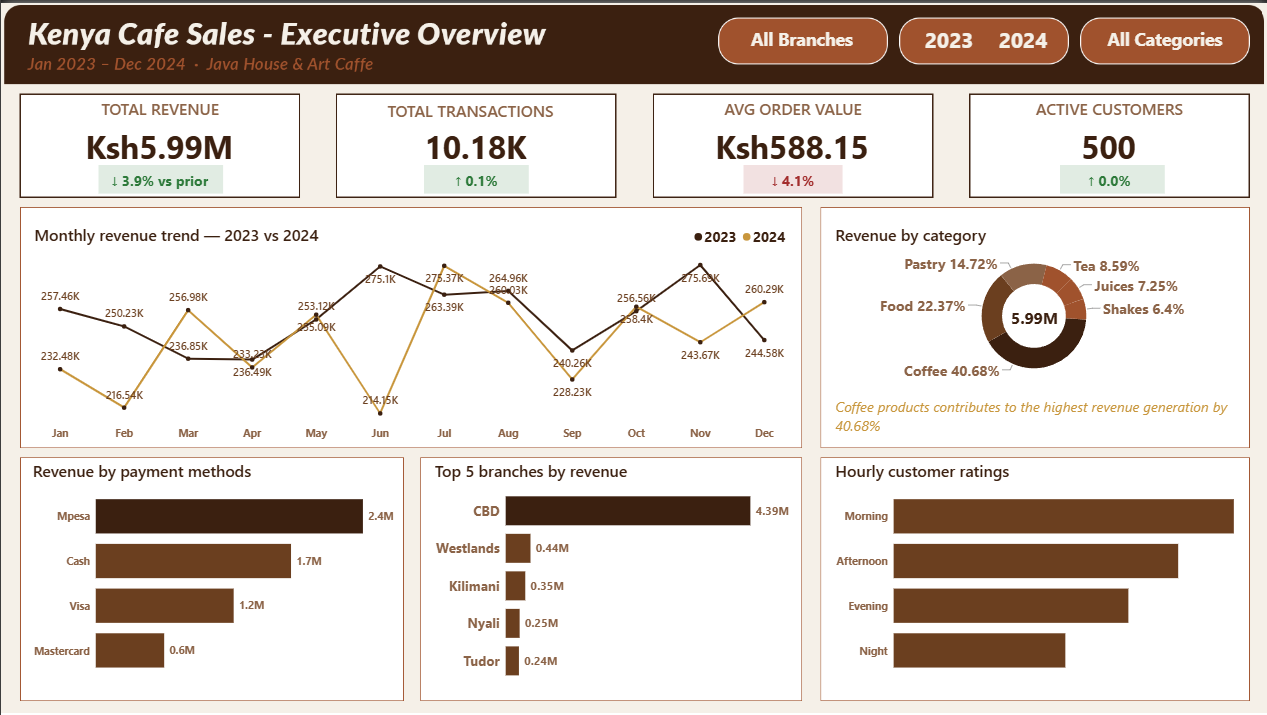

The page's visual inventory and layout, read from the dashboard file:
{"tool":"powerbi","page":{"name":"Page 1-Overview","canvas":[1920,1080],"ordinal":0},"visuals":[{"type":"cardVisual","fields":{"Data":["public sales_transaction.total_transactions"]},"box":[506.5,138.5,424.7,154.4],"z":0},{"type":"cardVisual","fields":{"Data":["public sales_transaction.total_revenue"]},"box":[25,138.5,429.3,154.4],"z":1000},{"type":"cardVisual","fields":{"Data":["public sales_transaction.avg_order_value"]},"box":[985.7,138.5,424.7,154.4],"z":2000},{"type":"cardVisual","fields":{"Data":["public customers.total_customers"]},"box":[1465,138.5,424.7,154.4],"z":3000},{"type":"textbox","box":[111.3,138.5,258.9,56.8],"z":4000},{"type":"textbox","box":[536,140.8,349.8,56.8],"z":5000},{"type":"textbox","box":[1049.3,138.5,299.8,56.8],"z":6000},{"type":"textbox","box":[1530.9,138.5,295.3,56.8],"z":7000},{"type":"lineChart","fields":{"Y":["public sales_transaction.total_revenue"],"Category":["public sales_transaction.month_name"],"Series":["public sales_transaction.sales_year"]},"box":[45.4,329.3,1153.8,343],"z":8000},{"type":"clusteredBarChart","fields":{"Category":["public sales_transaction.paymentmethod"],"Y":["public sales_transaction.total_revenue"]},"box":[43.2,710.9,556.5,329.3],"z":9000},{"type":"donutChart","fields":{"Y":["public sales_transaction.total_revenue"],"Category":["public sales_transaction.category"]},"box":[1240.1,368,647.3,211.2],"z":10000},{"type":"clusteredBarChart","fields":{"Category":["public sales_transaction.branch"],"Y":["public sales_transaction.total_revenue"]},"box":[651.9,710.9,547.4,336.2],"z":11000},{"type":"advancedSlicerVisual","fields":{"Values":["public sales_transaction.saledate.Variation.Date Hierarchy.Year"]},"box":[1378.7,15.9,227.1,77.2],"z":12000},{"type":"textbox","box":[1651.2,31.8,229.4,50],"z":13000},{"type":"textbox","box":[1101.6,31.8,229.4,50],"z":14000},{"type":"clusteredBarChart","fields":{"Y":["Sum(public sales_transaction.rating)"],"Category":["public sales_transaction.timeofday"]},"box":[1258.3,710.9,622.3,329.3],"z":15000},{"type":"cardVisual","fields":{"Data":["public sales_transaction.total_revenue"]},"box":[1446.8,436.1,236.2,77.2],"z":16000},{"type":"textbox","box":[45.4,329.3,651.9,47.7],"z":17000},{"type":"textbox","box":[43.2,685.9,538.3,47.7],"z":18000},{"type":"textbox","box":[651.9,685.9,547.4,47.7],"z":19000},{"type":"textbox","box":[1258.3,329.3,567.8,47.7],"z":20000},{"type":"textbox","box":[147.6,245.3,188.5,43.2],"z":21000},{"type":"textbox","box":[640.5,245.3,159,43.2],"z":22000},{"type":"textbox","box":[1603.5,245.3,159,43.2],"z":23000},{"type":"textbox","box":[1124.3,245.3,149.9,43.2],"z":24000},{"type":"cardVisual","fields":{"Data":["public sales_transaction.Revenue Growth Label"]},"box":[99.9,236.2,281.6,63.6],"z":25000},{"type":"cardVisual","fields":{"Data":["public sales_transaction.Transactions Growth Label"]},"box":[579.2,236.2,281.6,63.6],"z":26000},{"type":"cardVisual","fields":{"Data":["public sales_transaction.AOV Growth Label"]},"box":[1058.4,236.2,281.6,63.6],"z":27000},{"type":"cardVisual","fields":{"Data":["public customers.Customers Growth Label"]},"box":[1537.7,236.2,281.6,63.6],"z":28000},{"type":"textbox","box":[1258.3,590.5,622.3,72.7],"z":29000},{"type":"textbox","box":[1258.3,685.9,547.4,47.7],"z":30000}]}

Visuals, with their boxes in screenshot pixels (x1, y1, x2, y2), scaled from the page's 1920x1080 canvas onto the 1267x715 screenshot:
cardVisual - public sales_transaction.total_transactions: Rect(334, 92, 614, 194)
cardVisual - public sales_transaction.total_revenue: Rect(16, 92, 300, 194)
cardVisual - public sales_transaction.avg_order_value: Rect(650, 92, 931, 194)
cardVisual - public customers.total_customers: Rect(967, 92, 1247, 194)
textbox: Rect(73, 92, 244, 129)
textbox: Rect(354, 93, 585, 131)
textbox: Rect(692, 92, 890, 129)
textbox: Rect(1010, 92, 1205, 129)
lineChart - public sales_transaction.total_revenue x public sales_transaction.month_name: Rect(30, 218, 791, 445)
clusteredBarChart - public sales_transaction.paymentmethod x public sales_transaction.total_revenue: Rect(29, 471, 396, 689)
donutChart - public sales_transaction.total_revenue x public sales_transaction.category: Rect(818, 244, 1245, 383)
clusteredBarChart - public sales_transaction.branch x public sales_transaction.total_revenue: Rect(430, 471, 791, 693)
advancedSlicerVisual - public sales_transaction.saledate.Variation.Date Hierarchy.Year: Rect(910, 11, 1060, 62)
textbox: Rect(1090, 21, 1241, 54)
textbox: Rect(727, 21, 878, 54)
clusteredBarChart - Sum(public sales_transaction.rating) x public sales_transaction.timeofday: Rect(830, 471, 1241, 689)
cardVisual - public sales_transaction.total_revenue: Rect(955, 289, 1111, 340)
textbox: Rect(30, 218, 460, 250)
textbox: Rect(29, 454, 384, 486)
textbox: Rect(430, 454, 791, 486)
textbox: Rect(830, 218, 1205, 250)
textbox: Rect(97, 162, 222, 191)
textbox: Rect(423, 162, 528, 191)
textbox: Rect(1058, 162, 1163, 191)
textbox: Rect(742, 162, 841, 191)
cardVisual - public sales_transaction.Revenue Growth Label: Rect(66, 156, 252, 198)
cardVisual - public sales_transaction.Transactions Growth Label: Rect(382, 156, 568, 198)
cardVisual - public sales_transaction.AOV Growth Label: Rect(698, 156, 884, 198)
cardVisual - public customers.Customers Growth Label: Rect(1015, 156, 1201, 198)
textbox: Rect(830, 391, 1241, 439)
textbox: Rect(830, 454, 1192, 486)
